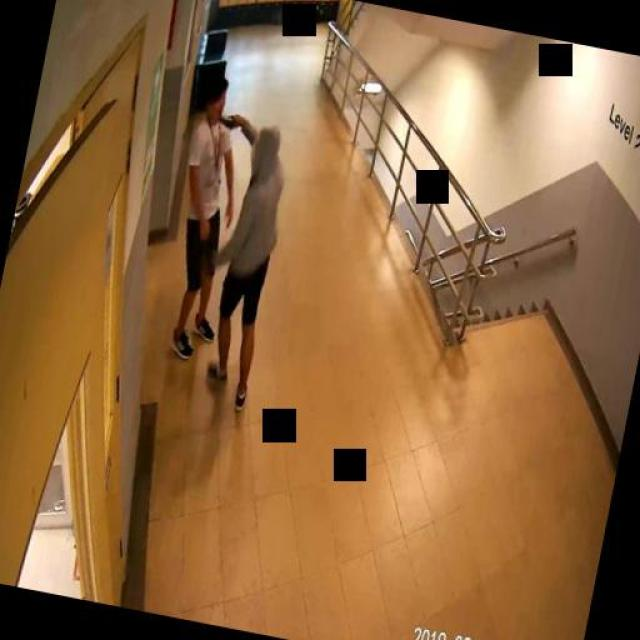gun: (216, 108, 244, 130)
